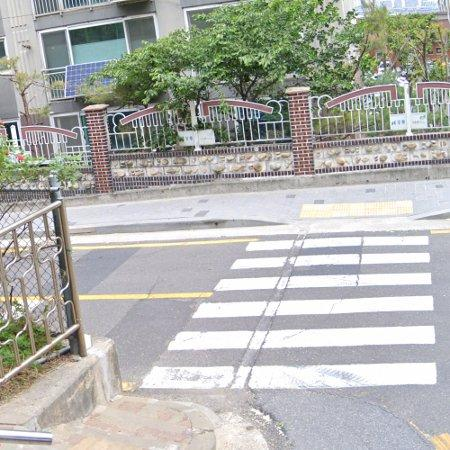crosswalks: (140, 234, 441, 389)
